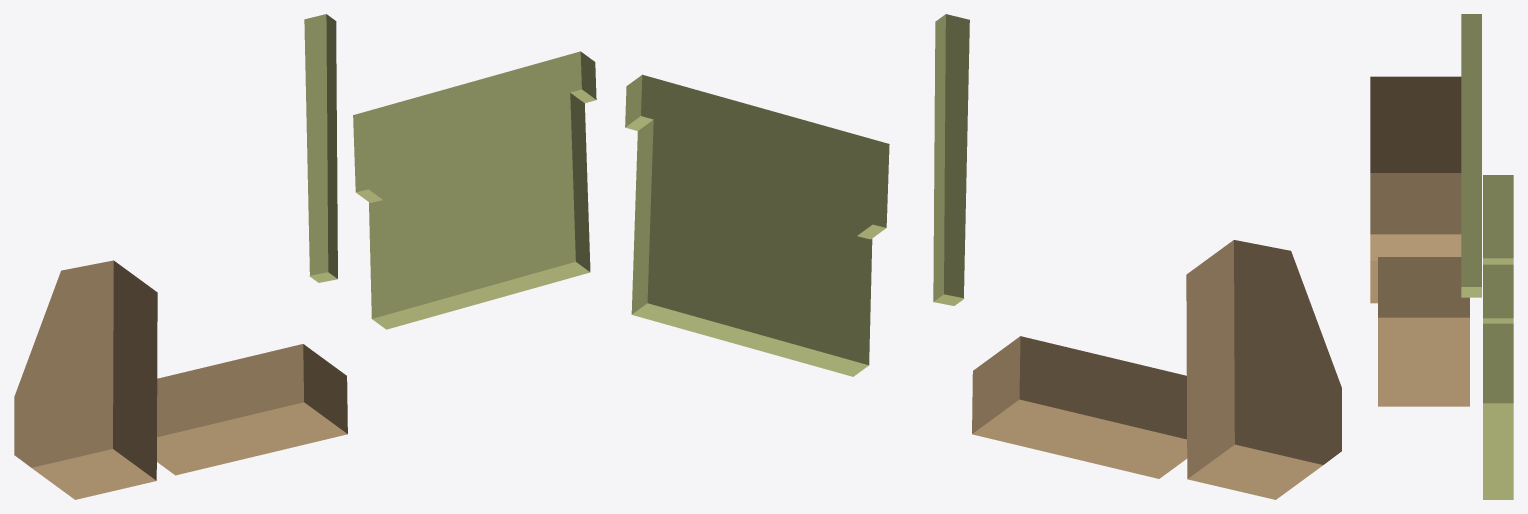
3 renders of one model, left to right at view 1: azimuth 30°, elevation 25°; view 2: azimuth 150°, elevation 25°; view 3: azimuth 270°, elevation 25°, orthographic. The views are drawn at different scales.
Visible parts, largest first — view 1: 0_0_3_1_2_3_0; view 2: 0_0_3_1_2_3_0; view 3: 0_0_3_1_2_3_0.
Part boxes in pixels (x1,y1,x2,y2): 0_0_3_1_2_3_0: (14,14,596,499); 0_0_3_1_2_3_0: (625,14,1341,499); 0_0_3_1_2_3_0: (1370,14,1513,499).
Size of the model in its own units: 211 by 128 by 42.
